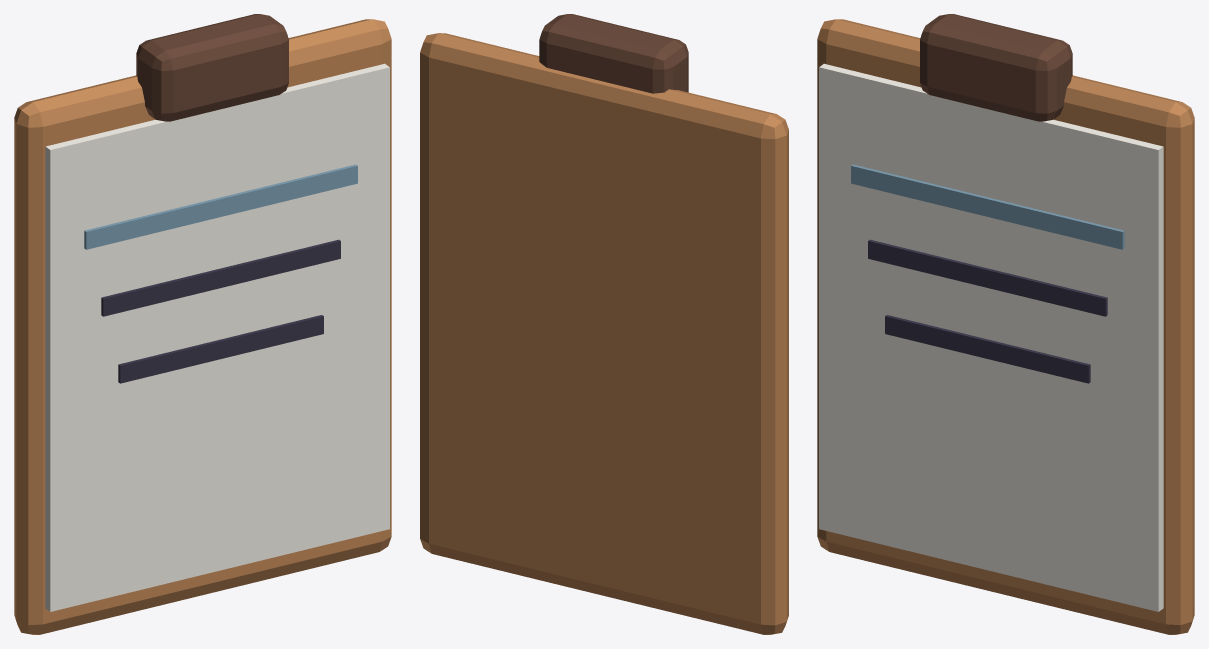
File: job_clipboard.glb
3 renders of one model, left to right at view 1: azimuth 30°, elevation 25°; view 2: azimuth 150°, elevation 25°; view 3: azimuth 330°, elevation 25°, orthographic. The views are drawn at different scales.
Visible parts, largest first — view 1: job_clipboard; view 2: job_clipboard; view 3: job_clipboard.
Part boxes in pixels (x1,y1,x2,y2): job_clipboard: (14,14,391,634); job_clipboard: (420,14,788,634); job_clipboard: (817,14,1194,634).
Bounding box in the file's own units: 0.22 × 0.32 × 0.035.
